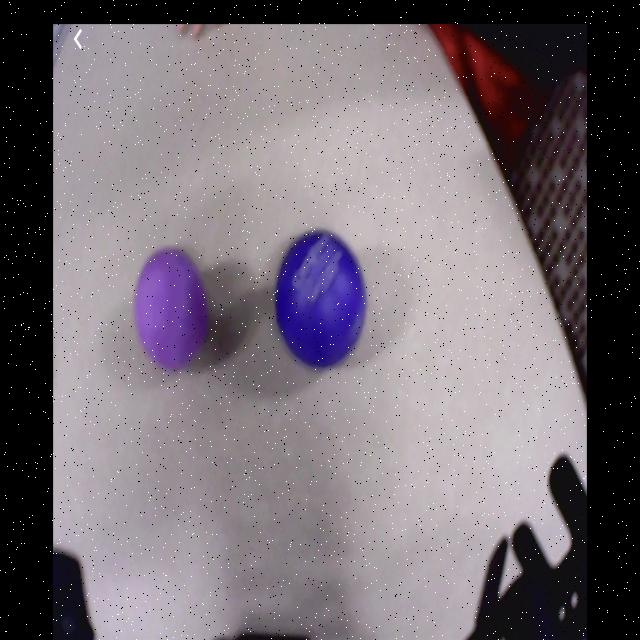ball: (276, 226, 366, 365), (137, 248, 210, 368)
